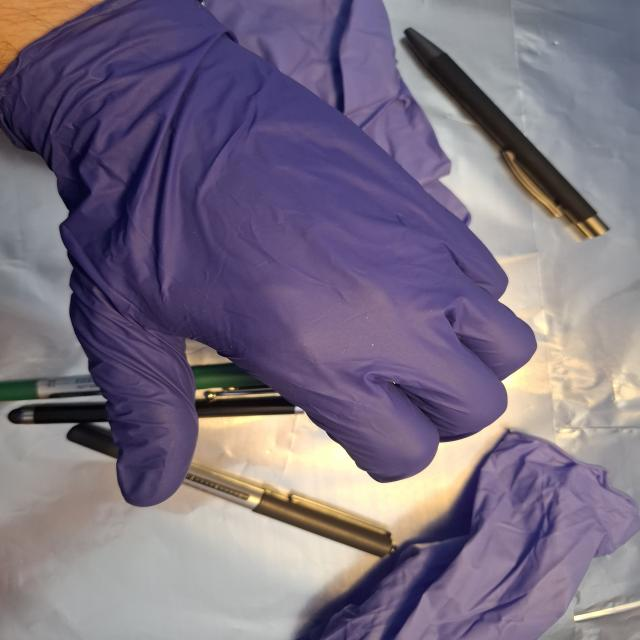glove_on: (5, 0, 543, 512)
